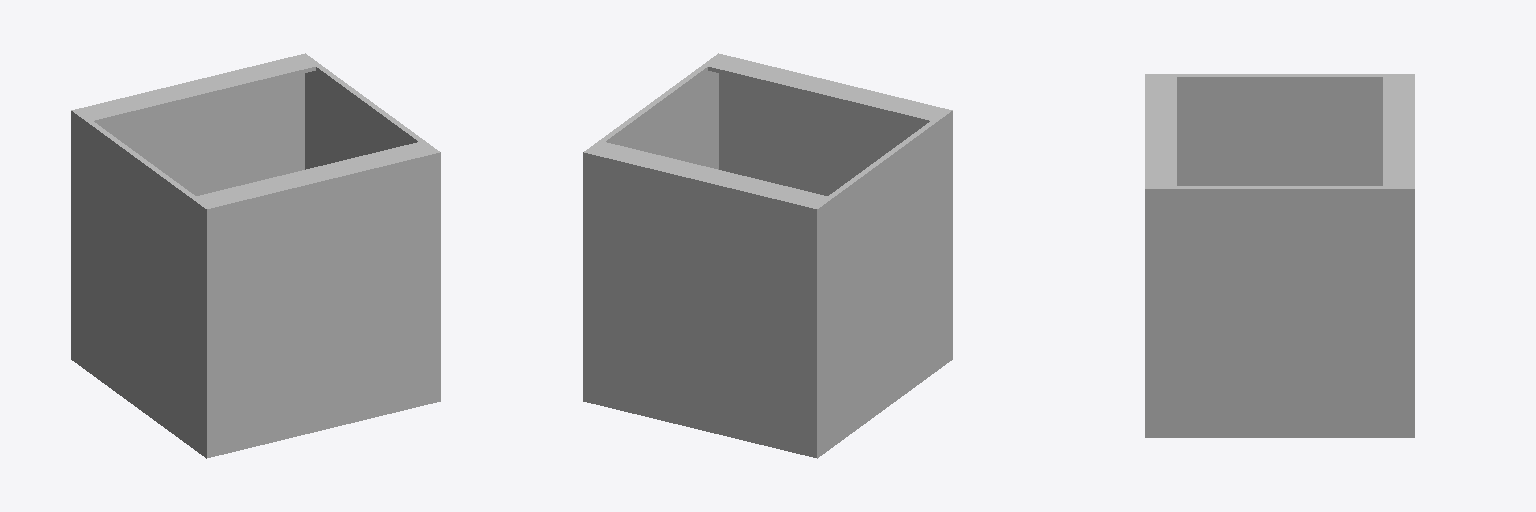
File: SM_Elevador_3x3.obj
The picture shows the model from 3 angles: view 1: azimuth 30°, elevation 25°; view 2: azimuth 150°, elevation 25°; view 3: azimuth 270°, elevation 25°; orthographic projection.
Parts seen in each view (by area): view 1: Elevador_Cube.001; view 2: Elevador_Cube.001; view 3: Elevador_Cube.001.
Part boxes in pixels (bbox=[...]): Elevador_Cube.001: bbox=[71, 53, 440, 458]; Elevador_Cube.001: bbox=[583, 53, 952, 458]; Elevador_Cube.001: bbox=[1145, 74, 1414, 437].
Size of the model in its own units: 3 by 3.05 by 3.